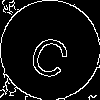C: (25, 25, 77, 82)
